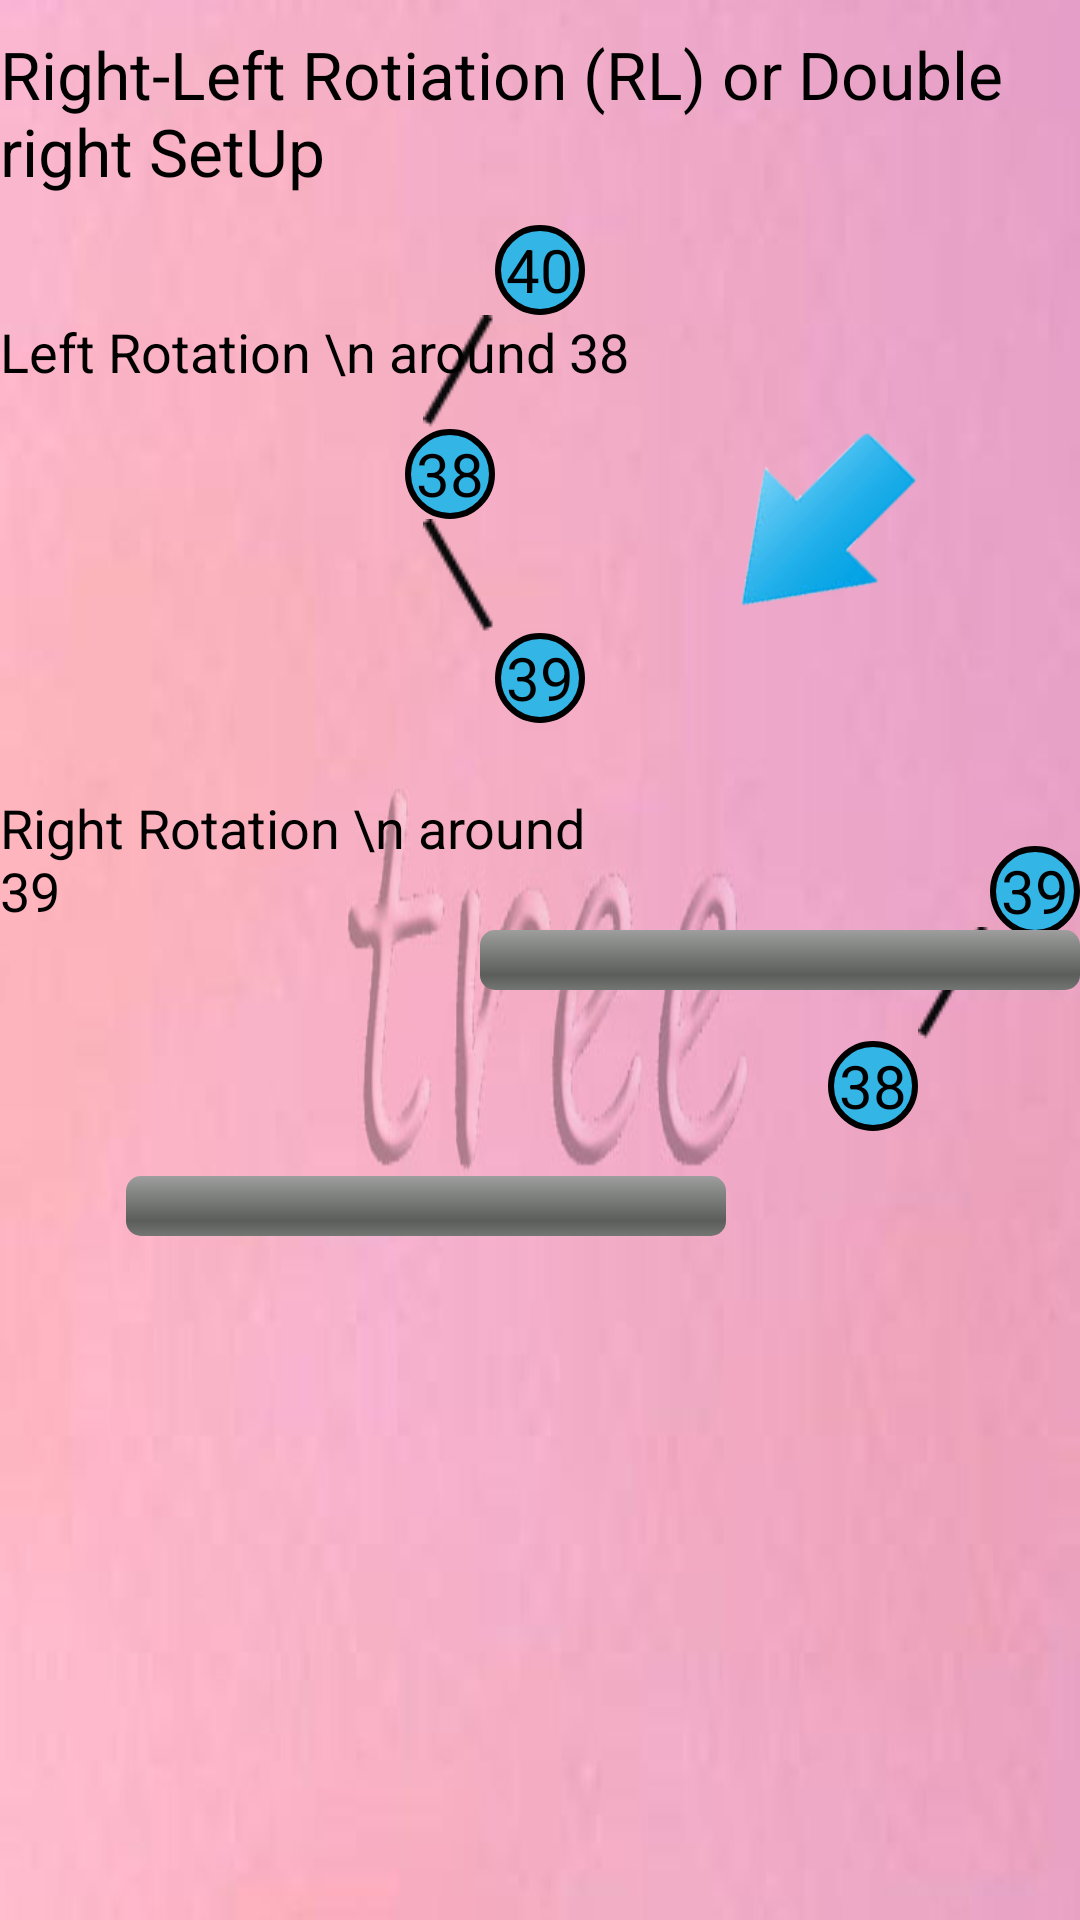

Icon bounding boxes for this 1080*1920 phone screenshot, format bbox(x1, y1, x2, y2):
avlright: bbox(423, 519, 493, 631)
